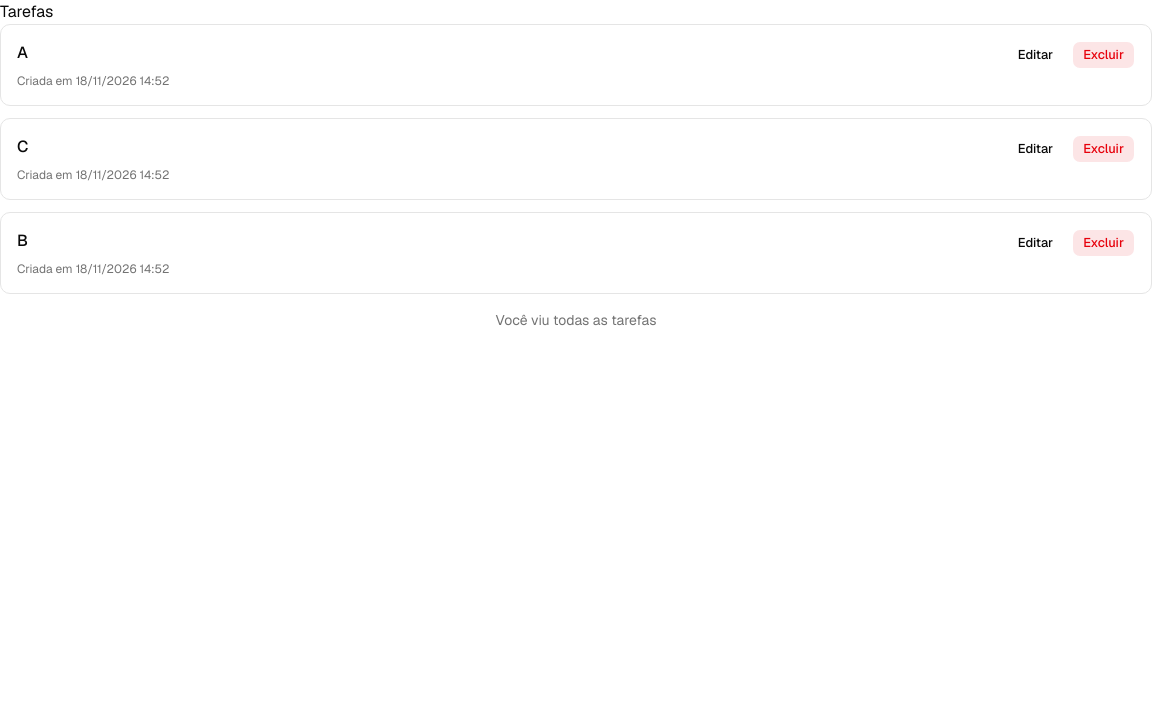
Test case: fluxo de exclusão › confirma: item some, toast de sucesso e foco no Excluir do próximo item
Click the button with aria-label "Excluir C". click: point(1104, 149)
box: [1072,135,1135,163]
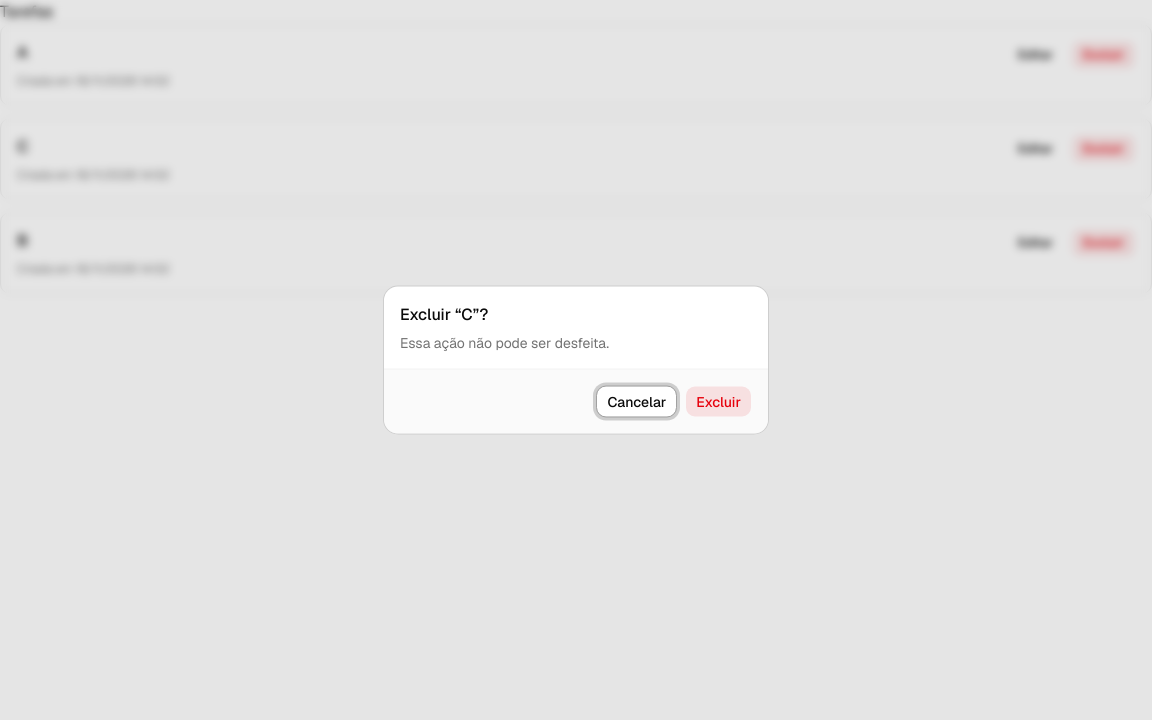
Click the button "Excluir". click: point(719, 402)
box: [685,386,752,418]
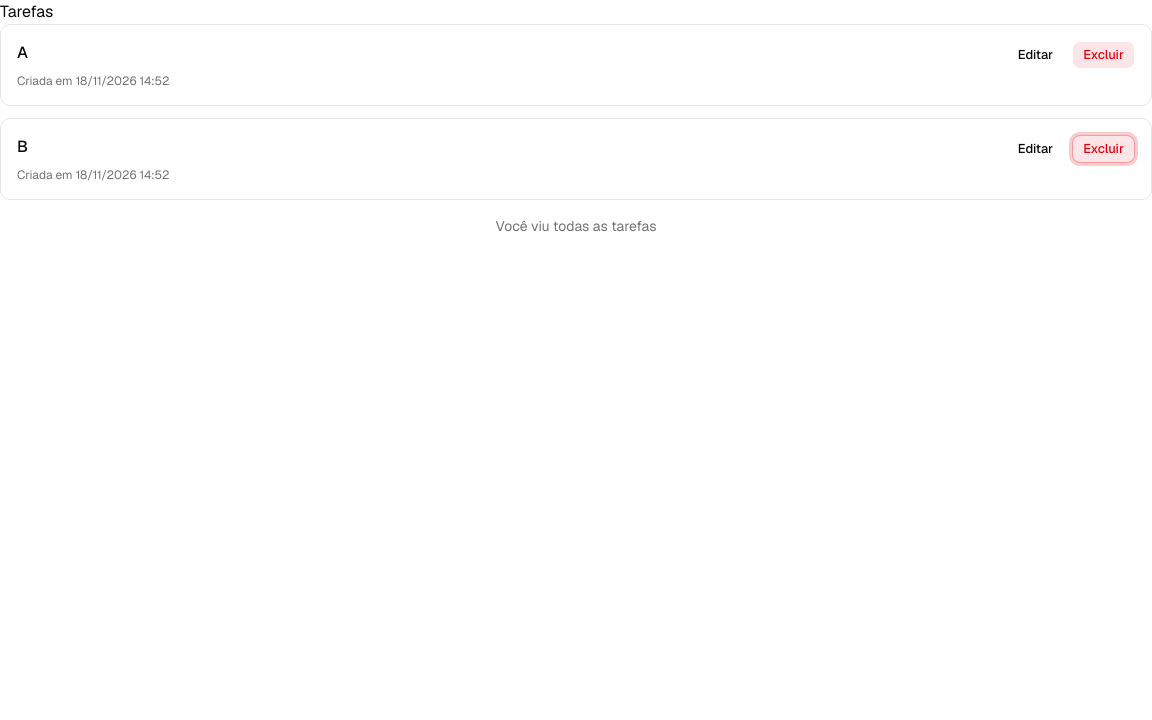
Check: the dialog is gone
